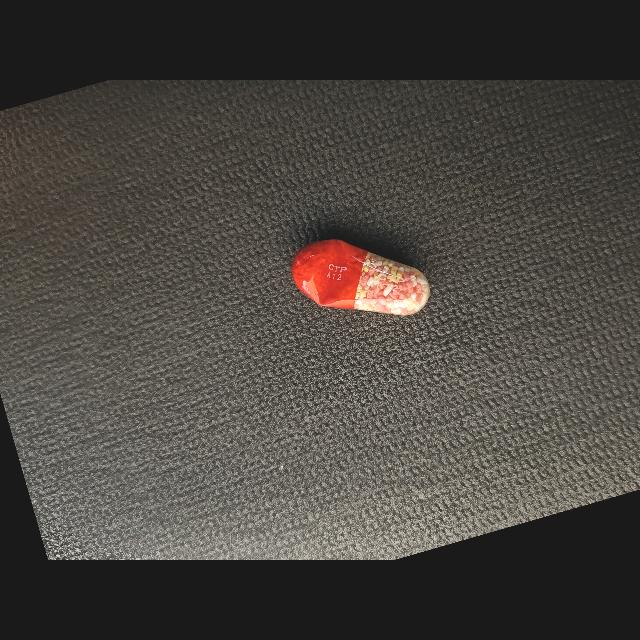Defective Capsule: (292, 239, 430, 316)
